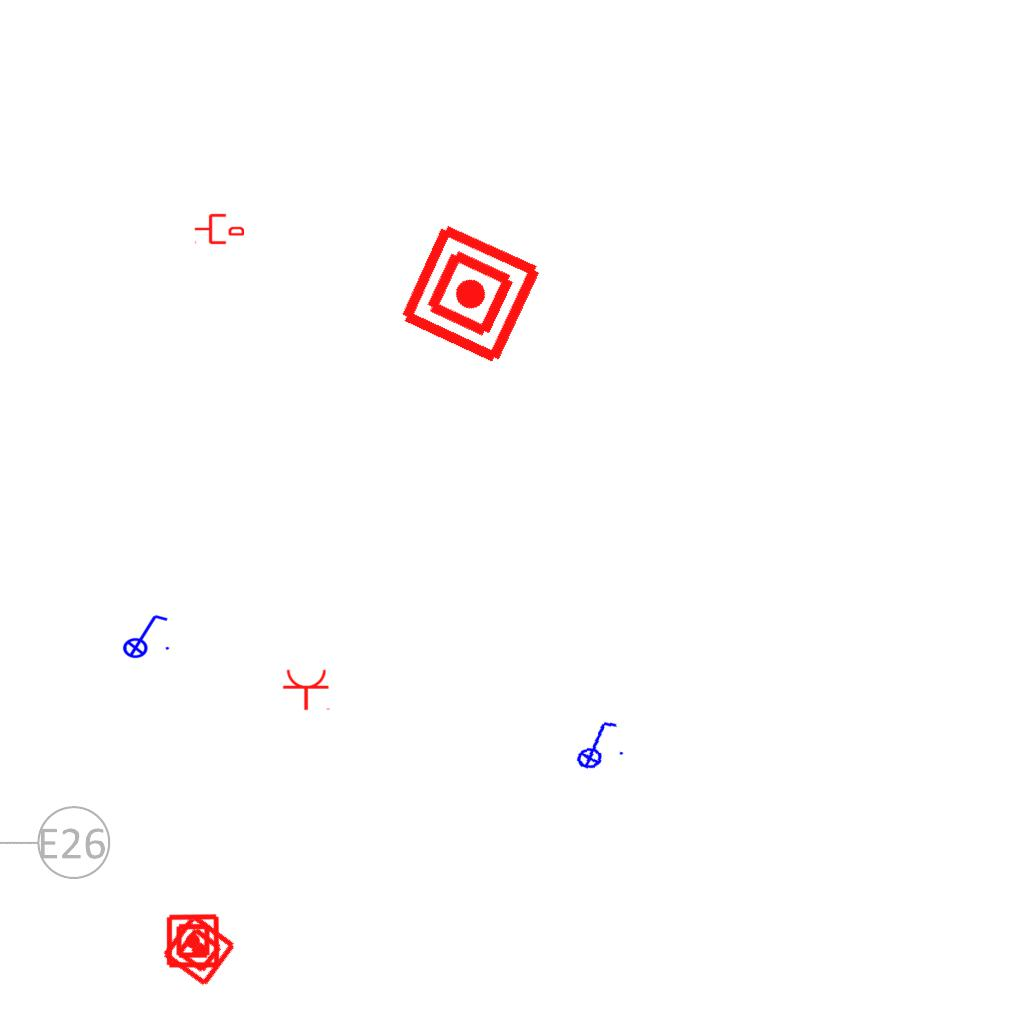Ausschalter_beleuchtet: (564, 715, 628, 773), (116, 611, 172, 659)
Datenanschluss_einfach: (194, 212, 244, 246)
NAM-Nichtautomatischer_Melder: (395, 218, 546, 369), (159, 910, 239, 990), (165, 913, 221, 969)
Schukosteckdose_einfach: (282, 668, 332, 711)
